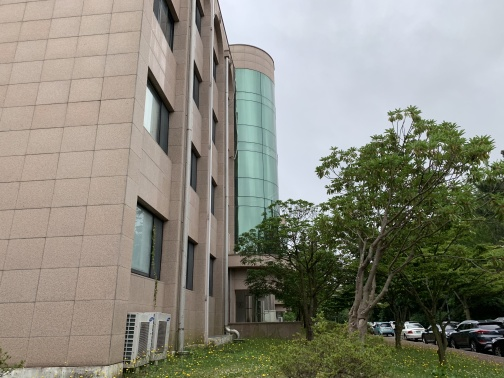Natural Science2: (79, 2, 300, 372)
